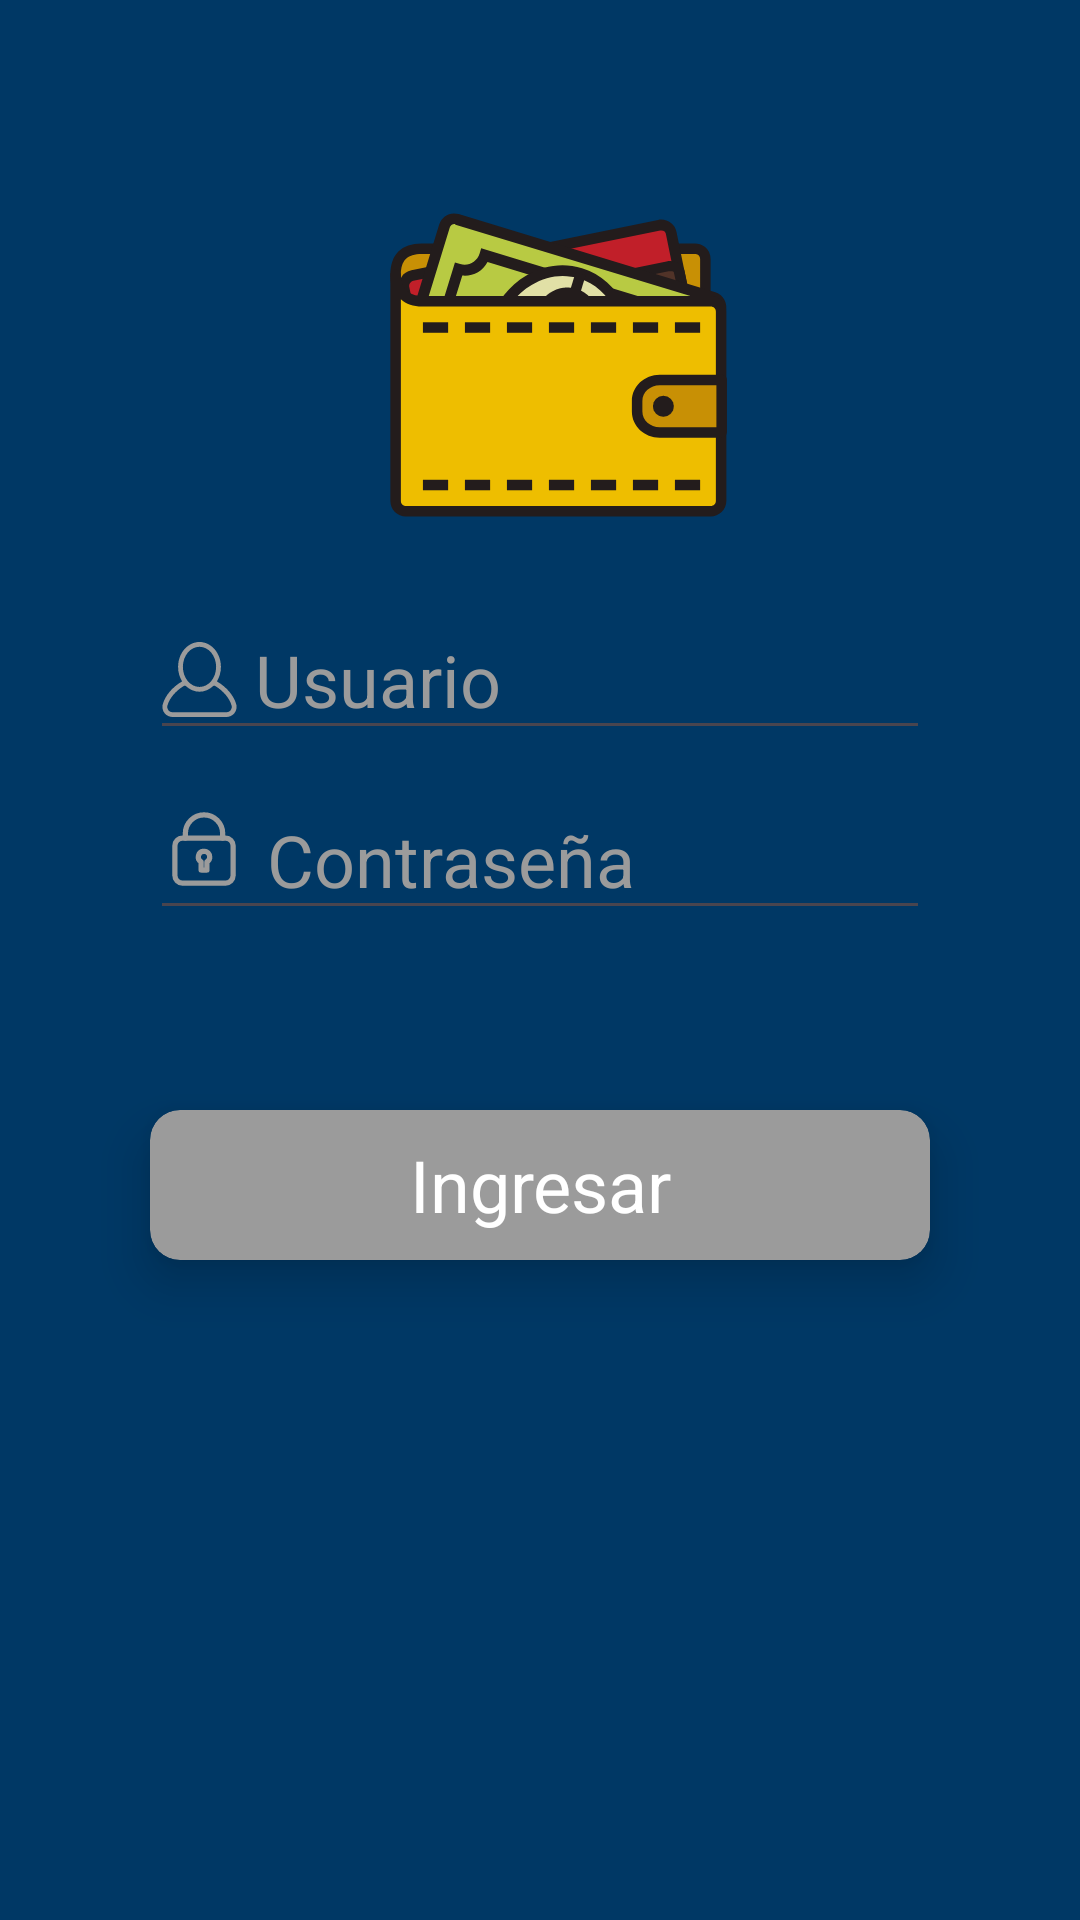

Locate icon controls on the screen. Image size 1080 x 1920, boxes as detection(x1, y1, x2, y2).
wallet: detection(390, 213, 727, 517)
